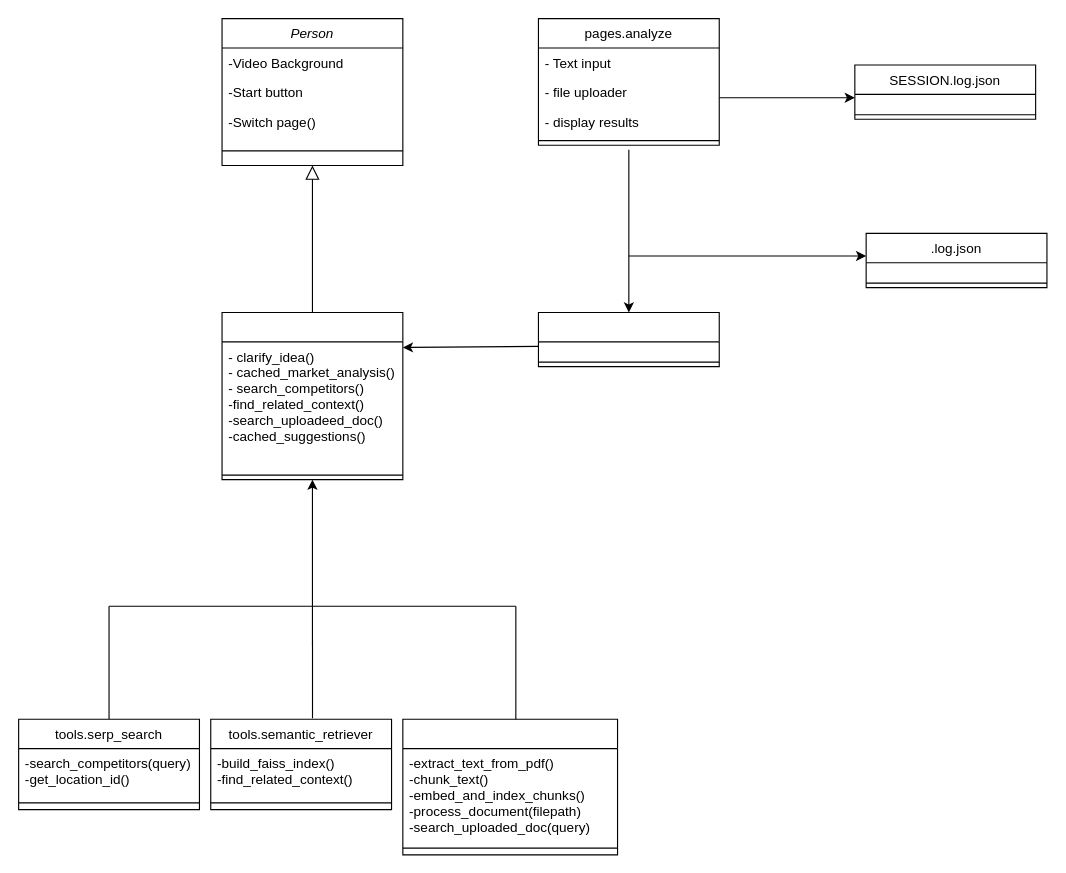
Some shapes in this 1066 by 873 pixel diagram are drawn without their labels. The shapes that lost their labels are listed below. From the top down, each one's box as (x1, y1, x2, y2) in pixels, then its label:
(537, 311, 719, 367): analyze_competitors(idea)
(221, 311, 403, 480): Agent.py
(402, 718, 618, 855): tools.Doc_embadder
